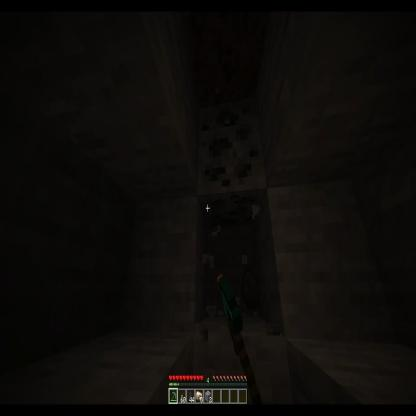coal ore: (197, 103, 269, 197)
